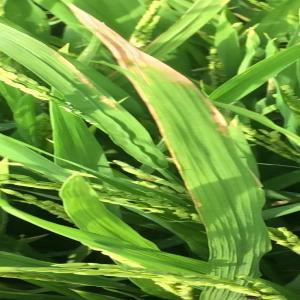Bacterial_Blight: (134, 15, 228, 253)
